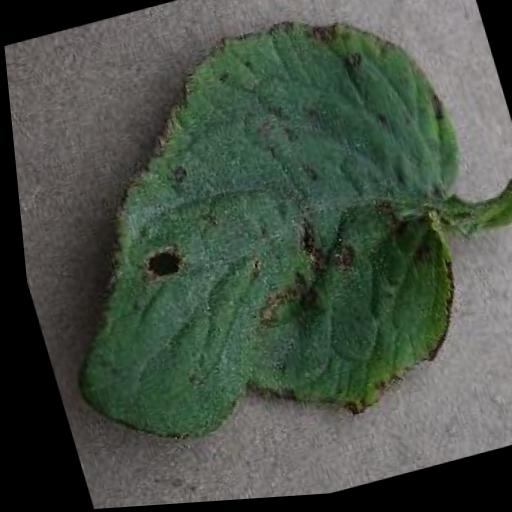Bacterial Spot: (0, 0, 512, 500)
